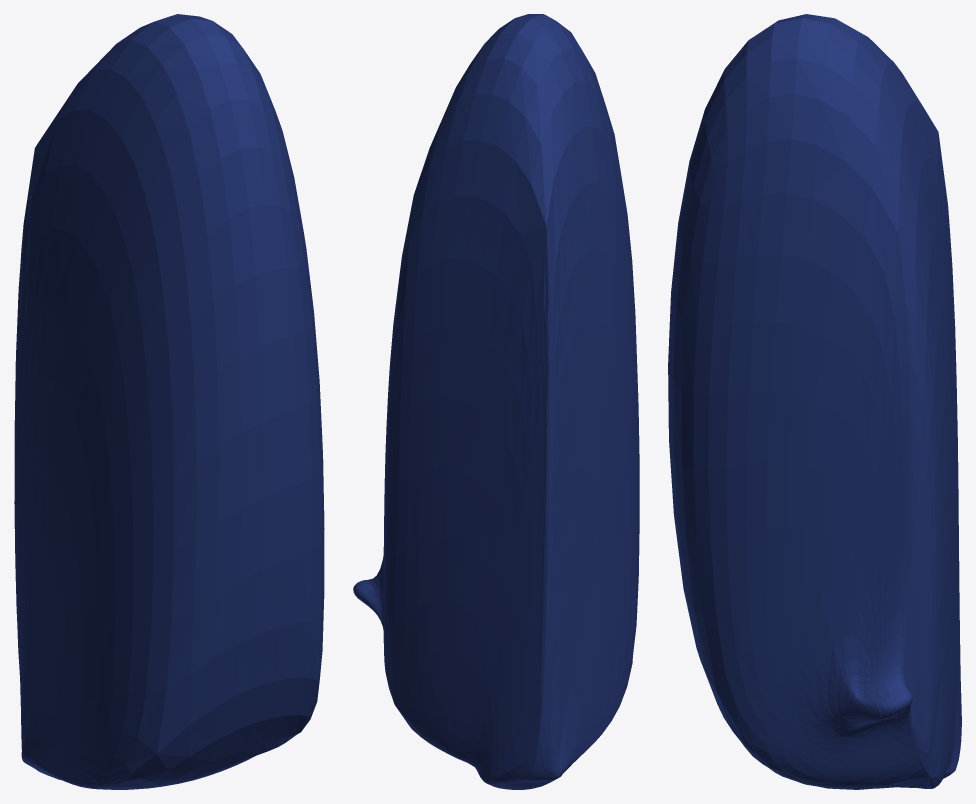
3 views of the same model, side by side, from view 1: azimuth 30°, elevation 25°; view 2: azimuth 150°, elevation 25°; view 3: azimuth 270°, elevation 25° (orthographic). The views are drawn at different scales.
Parts seen in each view (by area): view 1: 070_Cube.286; view 2: 070_Cube.286; view 3: 070_Cube.286.
Part boxes in pixels (x1,y1,x2,y2): 070_Cube.286: [14, 14, 324, 789]; 070_Cube.286: [353, 14, 639, 789]; 070_Cube.286: [668, 14, 961, 789].
Bounding box in the file's own units: 3.89 × 11.75 × 4.01.
